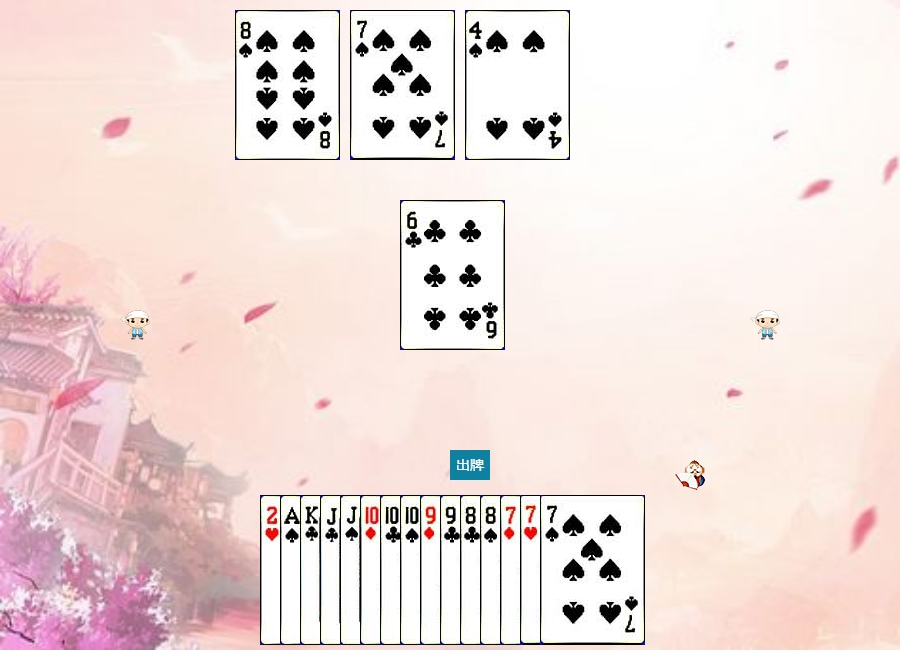10~1: (360, 495, 465, 645)
10~2: (380, 495, 485, 645)
10~4: (400, 495, 505, 645)
11~2: (320, 495, 425, 645)
11~4: (340, 495, 445, 645)
13~2: (300, 495, 405, 645)
14~4: (280, 495, 385, 645)
15~3: (260, 495, 365, 645)
4~4: (465, 10, 570, 160)
6~2: (400, 200, 505, 350)
7~1: (500, 495, 605, 645)
7~3: (520, 495, 625, 645)
7~4: (350, 10, 455, 160), (540, 495, 645, 645)
8~2: (460, 495, 565, 645)
8~4: (235, 10, 340, 160), (480, 495, 585, 645)
9~1: (420, 495, 525, 645)
9~2: (440, 495, 545, 645)
